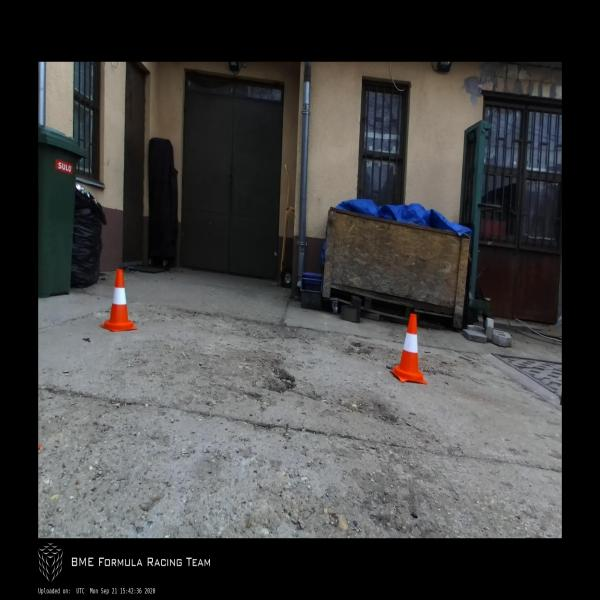orange_cone: (390, 314, 426, 384), (100, 268, 136, 332)
